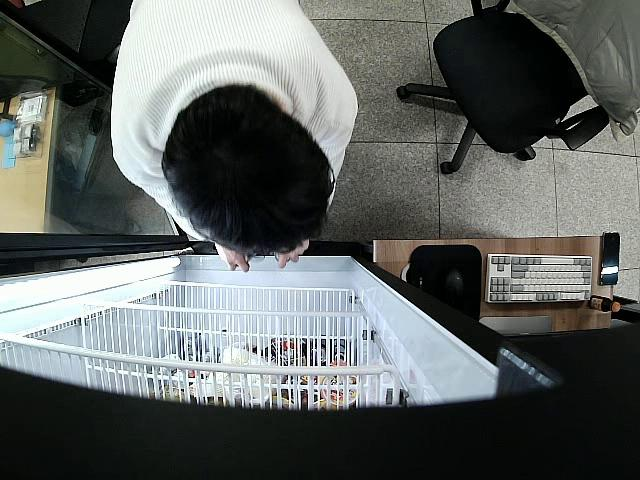00_hand: (213, 243, 251, 274)
